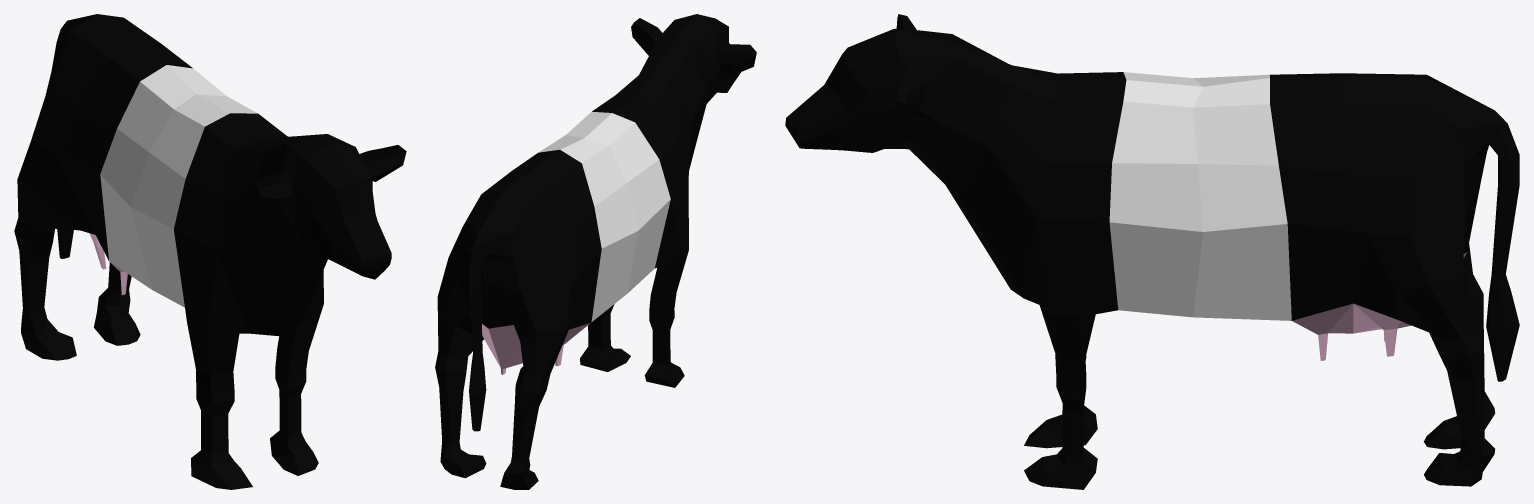
Rendered from Koe.fbx.
3 views of the same model, side by side, from view 1: azimuth 30°, elevation 25°; view 2: azimuth 150°, elevation 25°; view 3: azimuth 270°, elevation 25° (orthographic). The views are drawn at different scales.
Visible parts, largest first — view 1: COW_LV_Black; view 2: COW_LV_Black; view 3: COW_LV_Black.
Part boxes in pixels (bbox=[...]): COW_LV_Black: bbox=[14, 14, 406, 489]; COW_LV_Black: bbox=[435, 14, 756, 489]; COW_LV_Black: bbox=[785, 14, 1519, 489].
Size of the model in its own units: 3.49 by 8.05 by 12.49.
